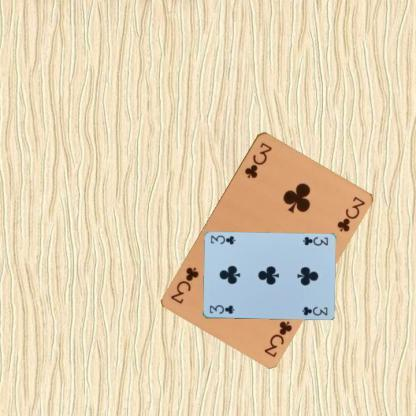3c: (261, 318, 294, 359), (242, 139, 274, 180), (300, 233, 329, 248), (206, 303, 236, 315)
